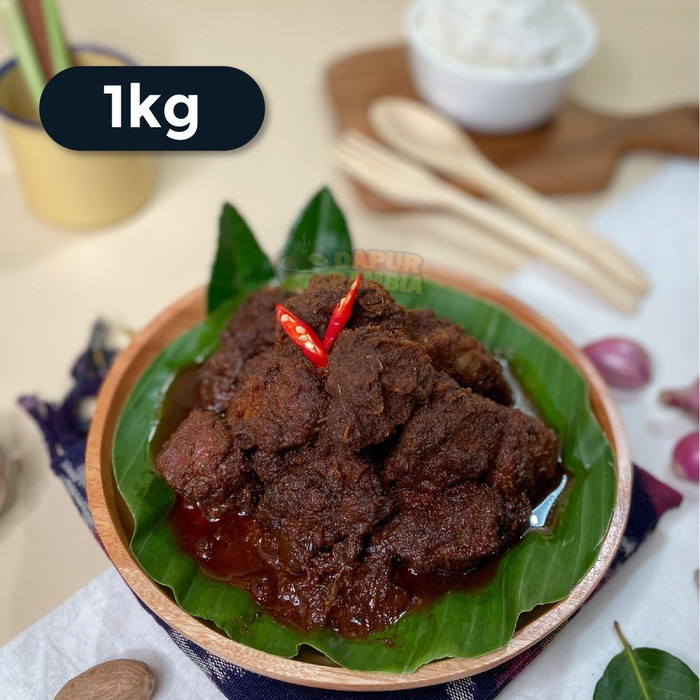rendang: (156, 276, 557, 626)
